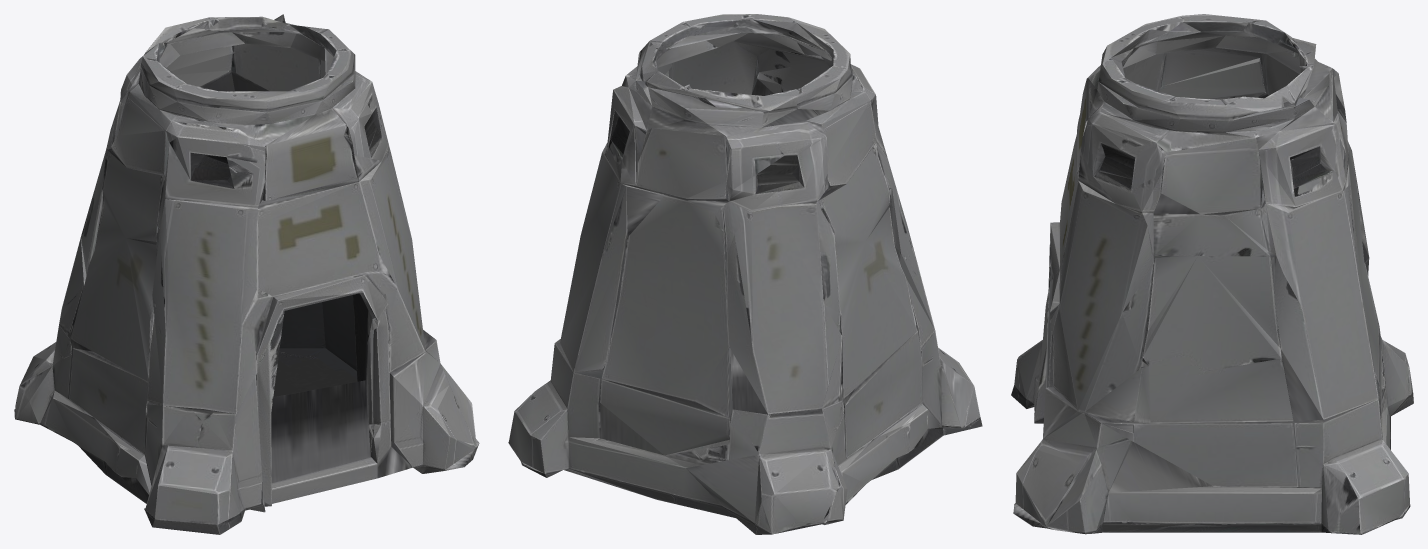
File: shared_flak_tower_compact_option_lod1.glb
The picture shows the model from 3 angles, left to right: view 1: azimuth 30°, elevation 25°; view 2: azimuth 150°, elevation 25°; view 3: azimuth 270°, elevation 25°; orthographic projection. The views are drawn at different scales.
Visible parts, largest first — view 1: mesh_node; view 2: mesh_node; view 3: mesh_node.
Part boxes in pixels (x1,y1,x2,y2): mesh_node: [14, 14, 479, 534]; mesh_node: [508, 14, 982, 534]; mesh_node: [1011, 14, 1413, 534].
Size of the model in its own units: 4.85 by 5.32 by 4.87.
1 material, 1 textured.
